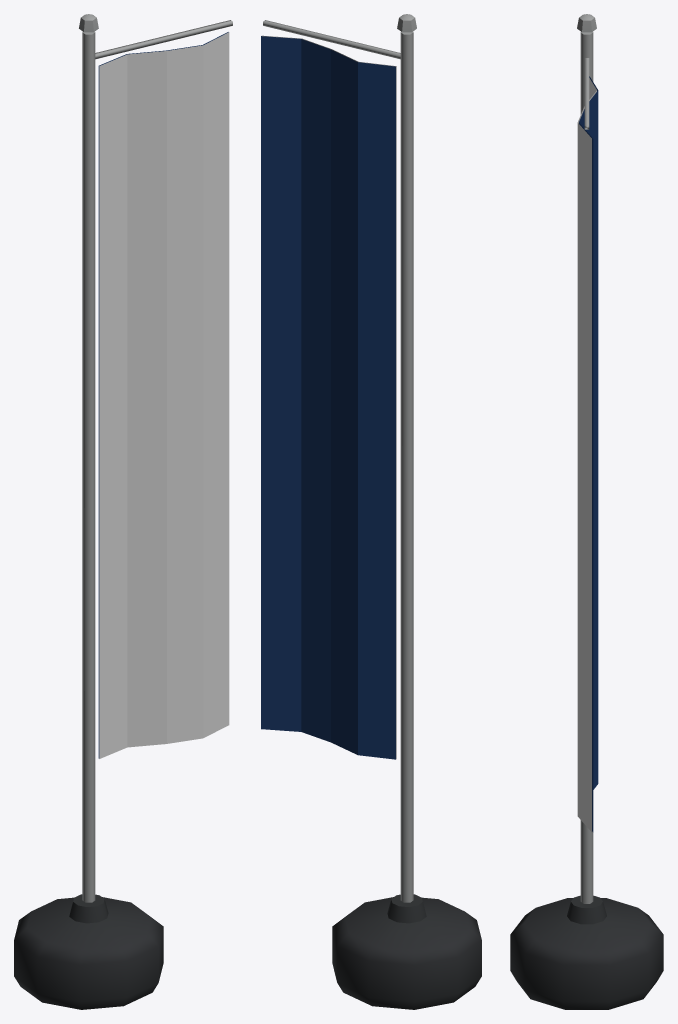
File: NoboriKM.fbx
3 renders of one model, left to right at view 1: azimuth 30°, elevation 25°; view 2: azimuth 150°, elevation 25°; view 3: azimuth 270°, elevation 25°, orthographic.
Parts seen in each view (by area): view 1: NoboriKM; view 2: NoboriKM; view 3: NoboriKM.
Part boxes in pixels (box(x1,y1,x2,y2)): NoboriKM: box(14, 14, 232, 1009); NoboriKM: box(261, 14, 481, 1009); NoboriKM: box(510, 14, 663, 1009).
Bounding box in the file's own units: 0.5907 × 2.65 × 0.38.
